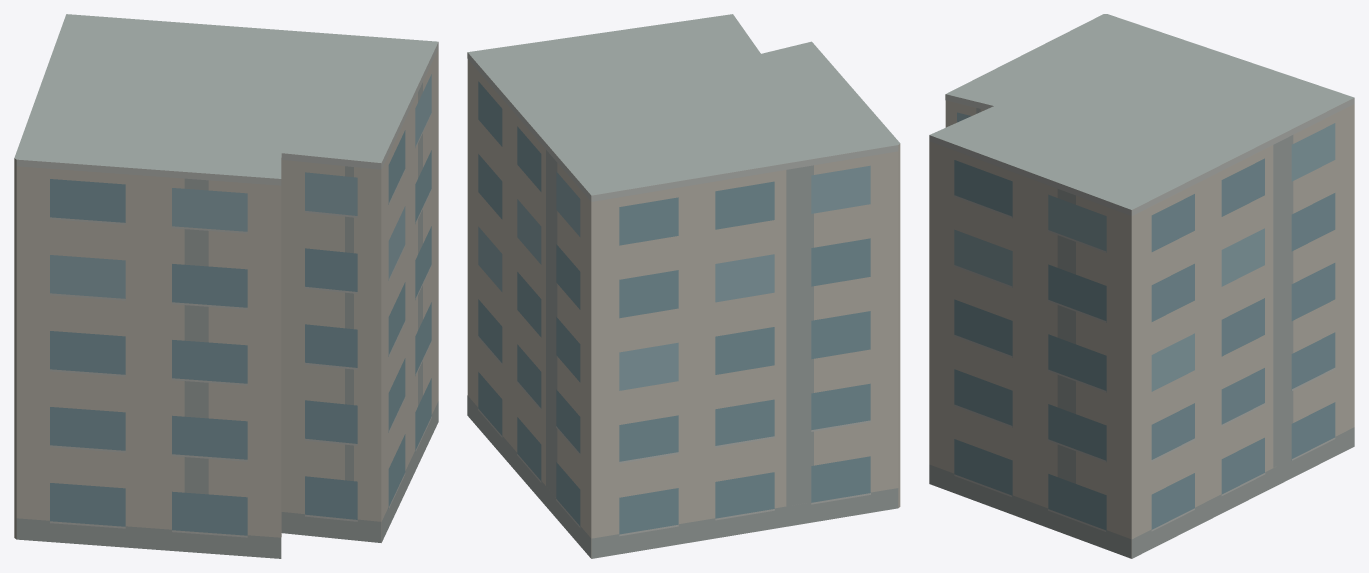
Rendered from survey-upis-32843972.glb.
3 views of the same model, side by side, from view 1: azimuth 30°, elevation 25°; view 2: azimuth 150°, elevation 25°; view 3: azimuth 270°, elevation 25° (orthographic). The views are drawn at different scales.
Visible parts, largest first — view 1: survey-upis-32843972.tmp; view 2: survey-upis-32843972.tmp; view 3: survey-upis-32843972.tmp.
Boxes of the visible parts, bbox=[...] form: survey-upis-32843972.tmp: bbox=[14, 14, 438, 558]; survey-upis-32843972.tmp: bbox=[467, 14, 900, 558]; survey-upis-32843972.tmp: bbox=[929, 14, 1354, 558].
Bounding box in the file's own units: 16.7 × 13.85 × 15.31.
